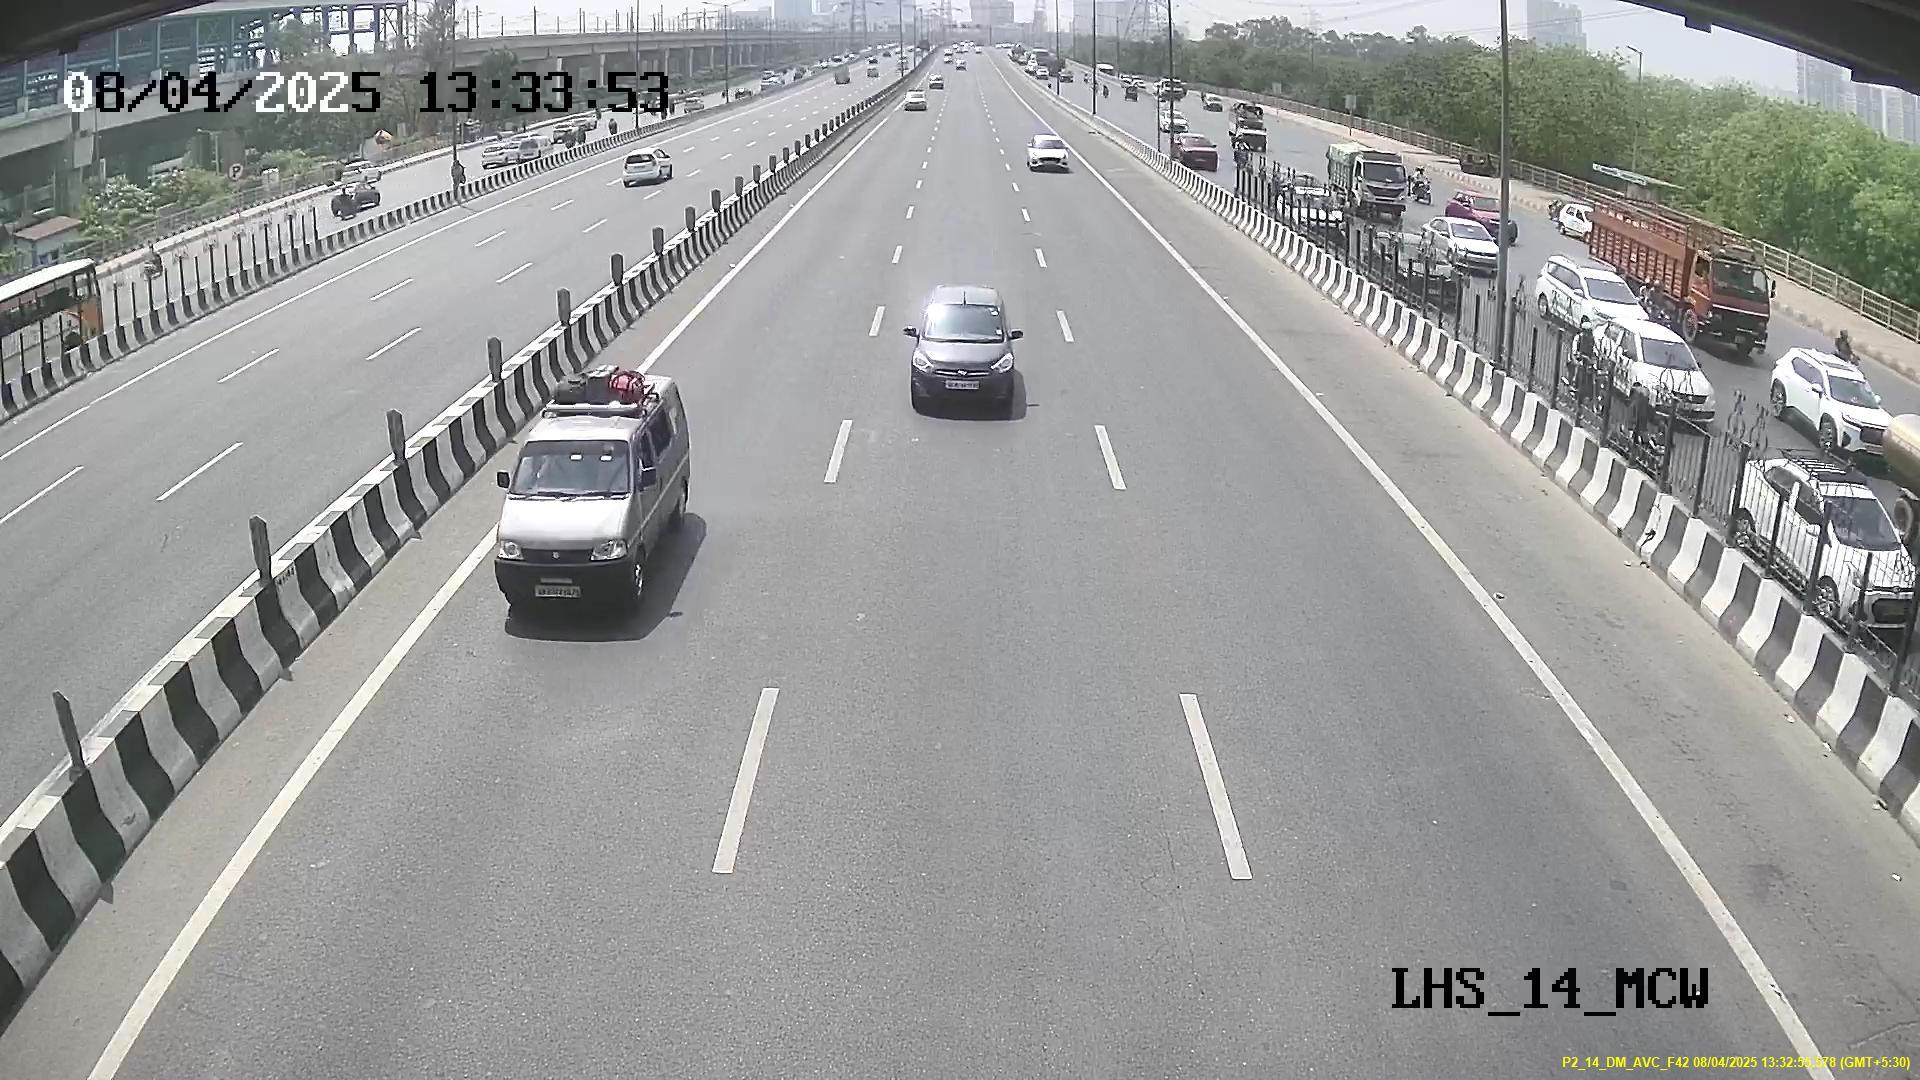car: (492, 413, 666, 612), (906, 290, 1017, 418)
